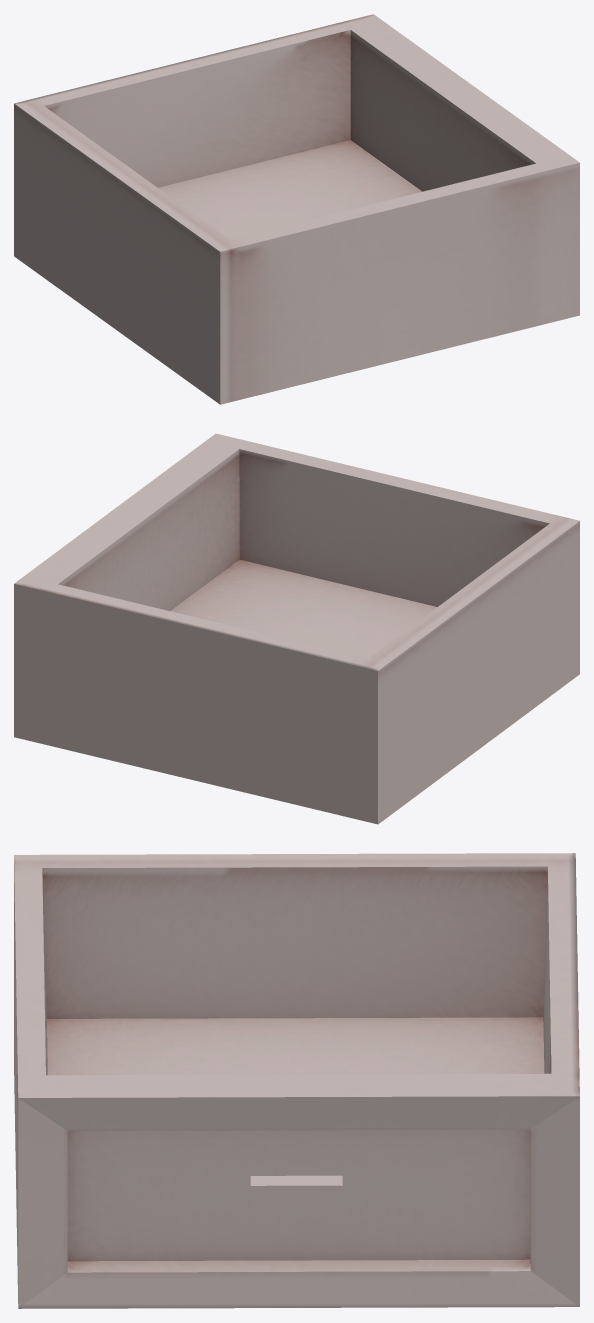
File: drawer2.glb
3 renders of one model, top to bottom at view 1: azimuth 30°, elevation 25°; view 2: azimuth 150°, elevation 25°; view 3: azimuth 270°, elevation 25°, orthographic. The views are drawn at different scales.
Visible parts, largest first — view 1: frl_apartment_lower_shelf_01_part_04; view 2: frl_apartment_lower_shelf_01_part_04; view 3: frl_apartment_lower_shelf_01_part_04.
Boxes of the visible parts, x1,y1,x2,y2 form: frl_apartment_lower_shelf_01_part_04: (14, 14, 579, 404); frl_apartment_lower_shelf_01_part_04: (14, 433, 579, 824); frl_apartment_lower_shelf_01_part_04: (14, 853, 579, 1308).
Bounding box in the file's own units: 0.615 × 0.2469 × 0.6008.
Materials: 1 (1 with a texture image).
